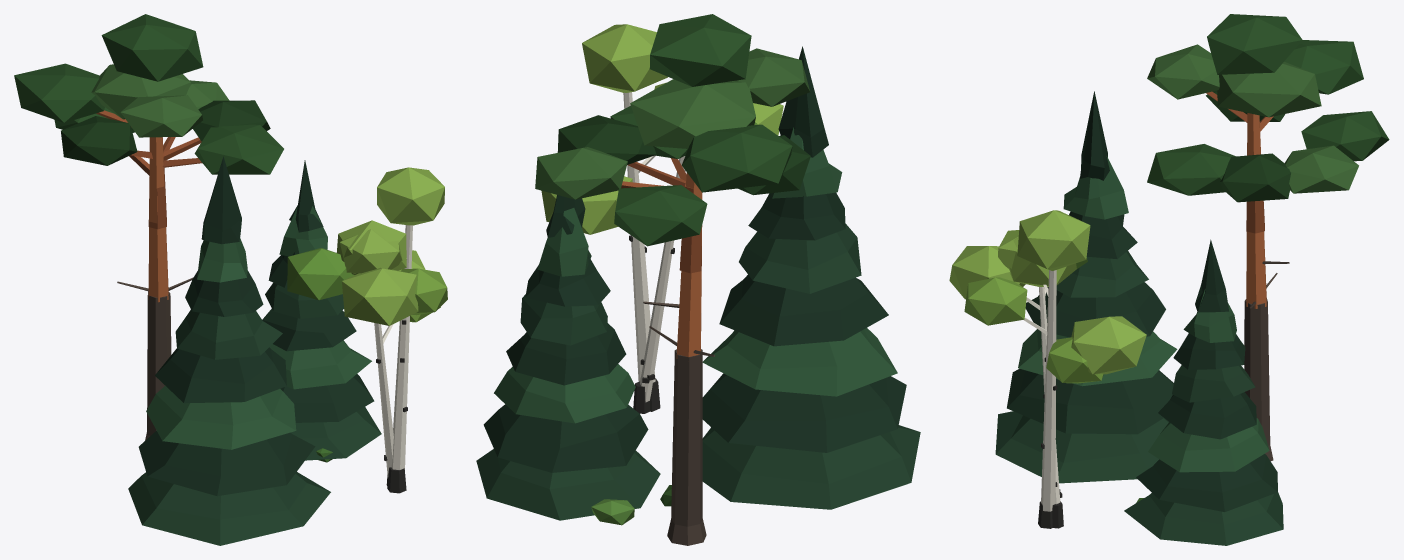
File: forest_stand_b.glb
3 renders of one model, left to right at view 1: azimuth 30°, elevation 25°; view 2: azimuth 150°, elevation 25°; view 3: azimuth 270°, elevation 25°, orthographic. The views are drawn at different scales.
Parts seen in each view (by area): view 1: forest_stand_b; view 2: forest_stand_b; view 3: forest_stand_b.
Boxes of the visible parts, x1,y1,x2,y2 form: forest_stand_b: (14,14,447,545); forest_stand_b: (476,14,920,545); forest_stand_b: (949,14,1389,545).
Size of the model in its own units: 7.5 by 10.28 by 9.45.
